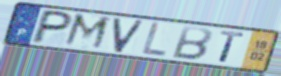B: (169, 25, 214, 62)
L: (140, 21, 168, 59)
M: (61, 12, 114, 52)
P: (28, 8, 76, 45)
T: (218, 29, 247, 65)
V: (111, 16, 146, 54)
